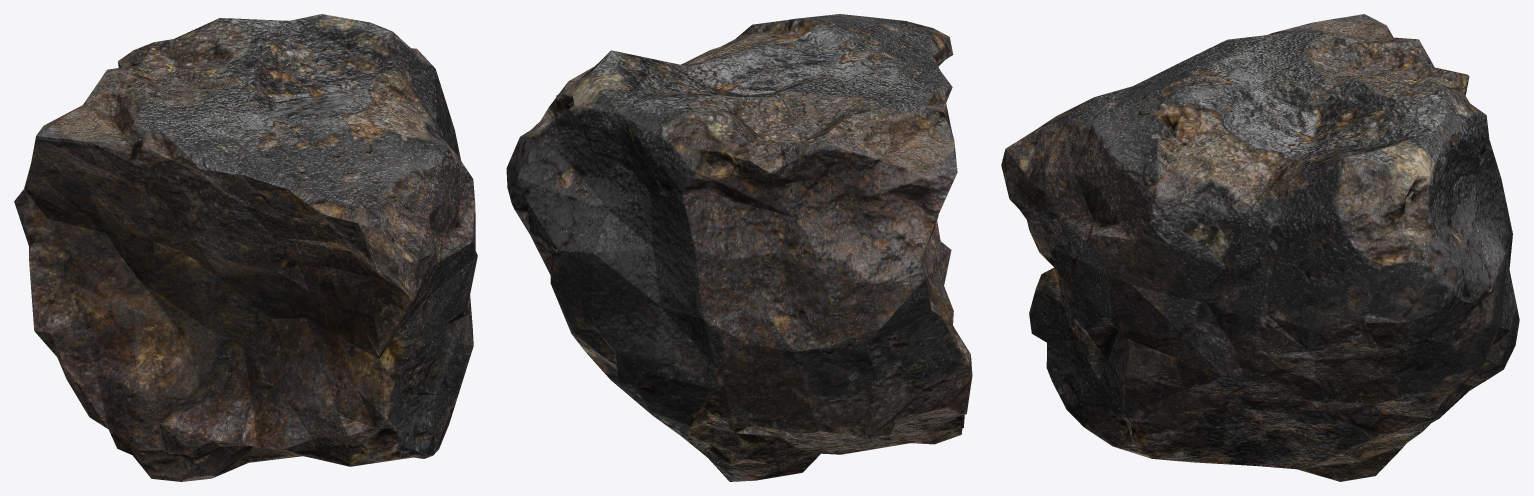
Rendered from EET87720-0.fbx.
3 renders of one model, left to right at view 1: azimuth 30°, elevation 25°; view 2: azimuth 150°, elevation 25°; view 3: azimuth 270°, elevation 25°, orthographic. The views are drawn at different scales.
Visible parts, largest first — view 1: EET87720-0; view 2: EET87720-0; view 3: EET87720-0.
Part boxes in pixels (x1,y1,x2,y2): EET87720-0: [14, 14, 477, 481]; EET87720-0: [506, 14, 972, 481]; EET87720-0: [1001, 14, 1519, 481].
Bounding box in the file's own units: 45.07 × 40.34 × 47.99.
